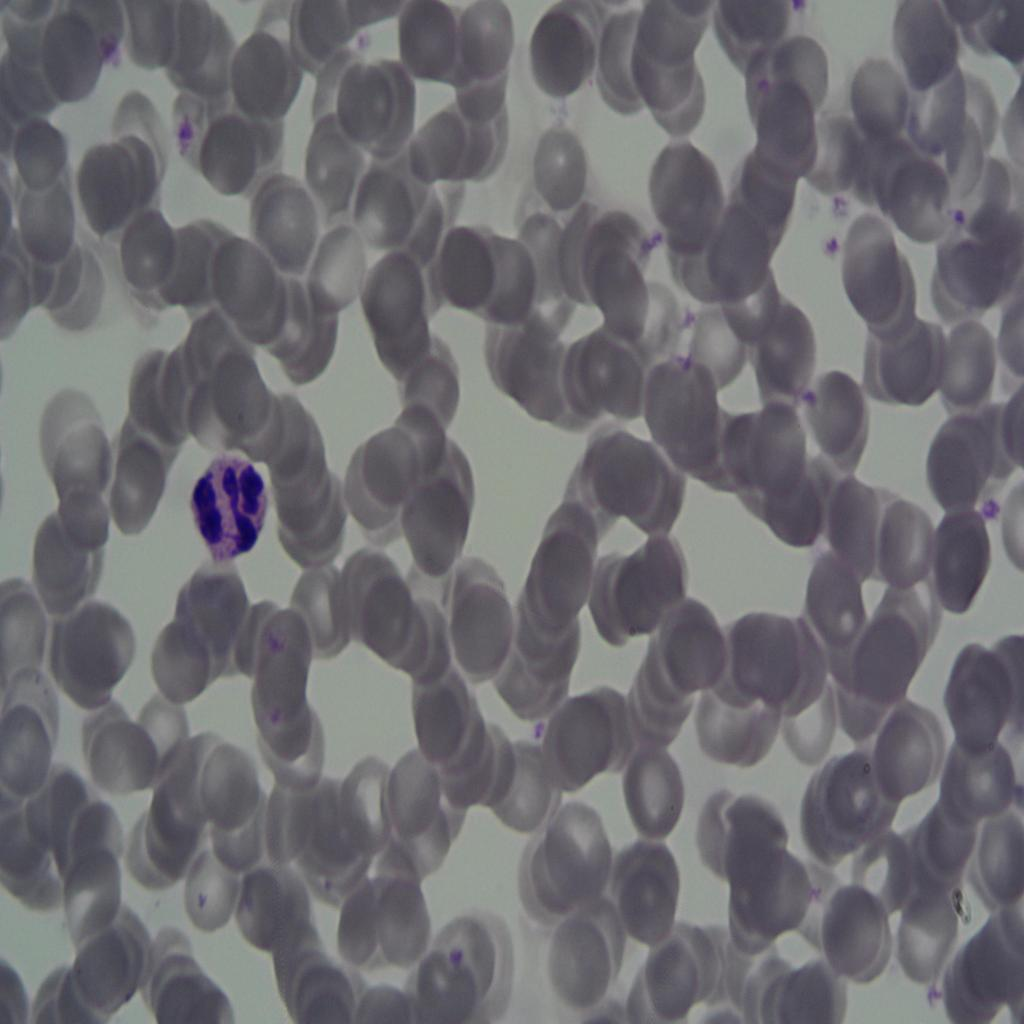Neutrofil: (184, 439, 274, 565)
Platelet: (980, 498, 1014, 532), (819, 234, 847, 274), (944, 205, 974, 238)
